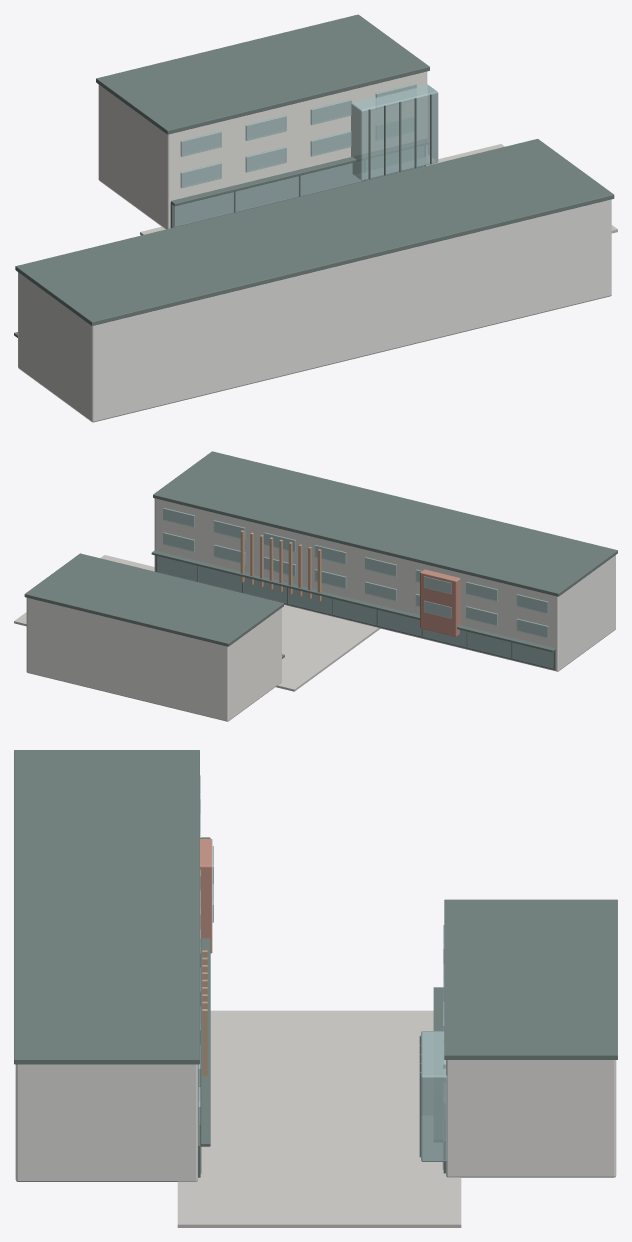
The model's file is xingfuli-east-massing.glb.
3 renders of one model, top to bottom at view 1: azimuth 30°, elevation 25°; view 2: azimuth 150°, elevation 25°; view 3: azimuth 270°, elevation 25°, orthographic. The views are drawn at different scales.
Visible parts, largest first — view 1: xingfuli-east-massing; view 2: xingfuli-east-massing; view 3: xingfuli-east-massing.
Boxes of the visible parts, x1,y1,x2,y2 form: xingfuli-east-massing: [14, 14, 617, 422]; xingfuli-east-massing: [14, 451, 617, 721]; xingfuli-east-massing: [14, 750, 617, 1227].
Size of the model in its own units: 41.09 by 6.89 by 29.83.
